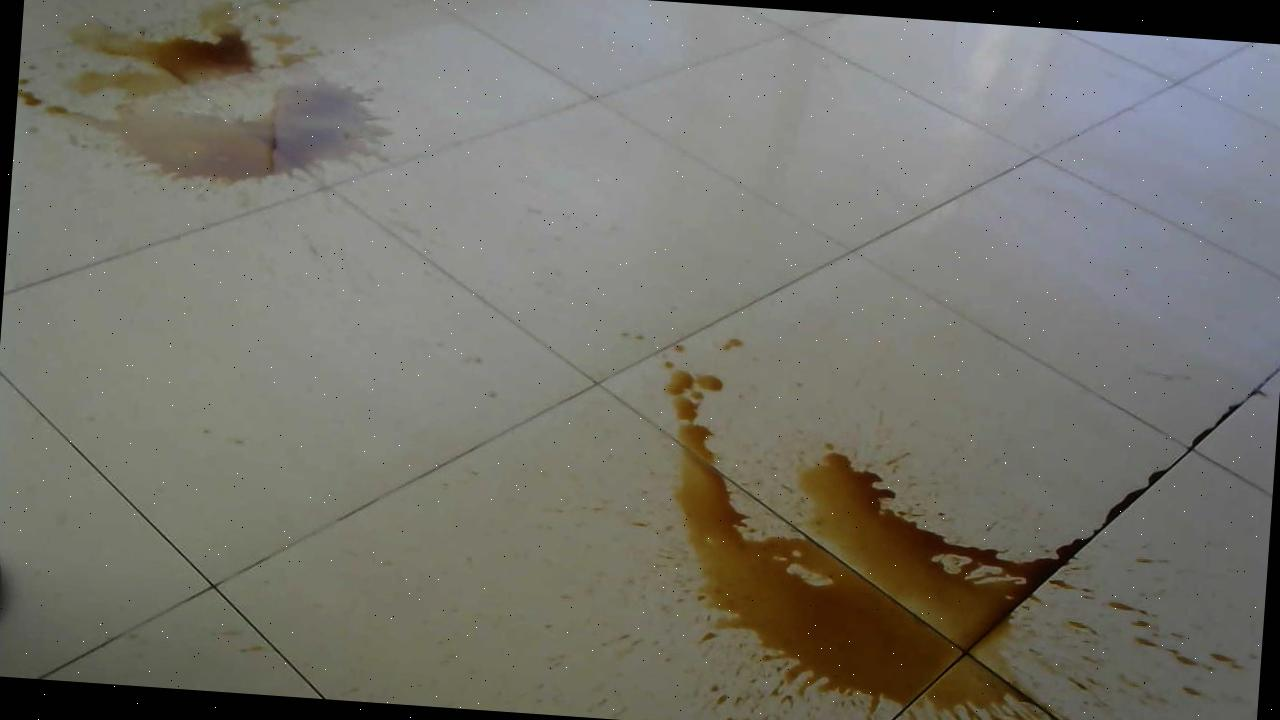dirty_floor: (584, 332, 1074, 716), (25, 0, 404, 220)
